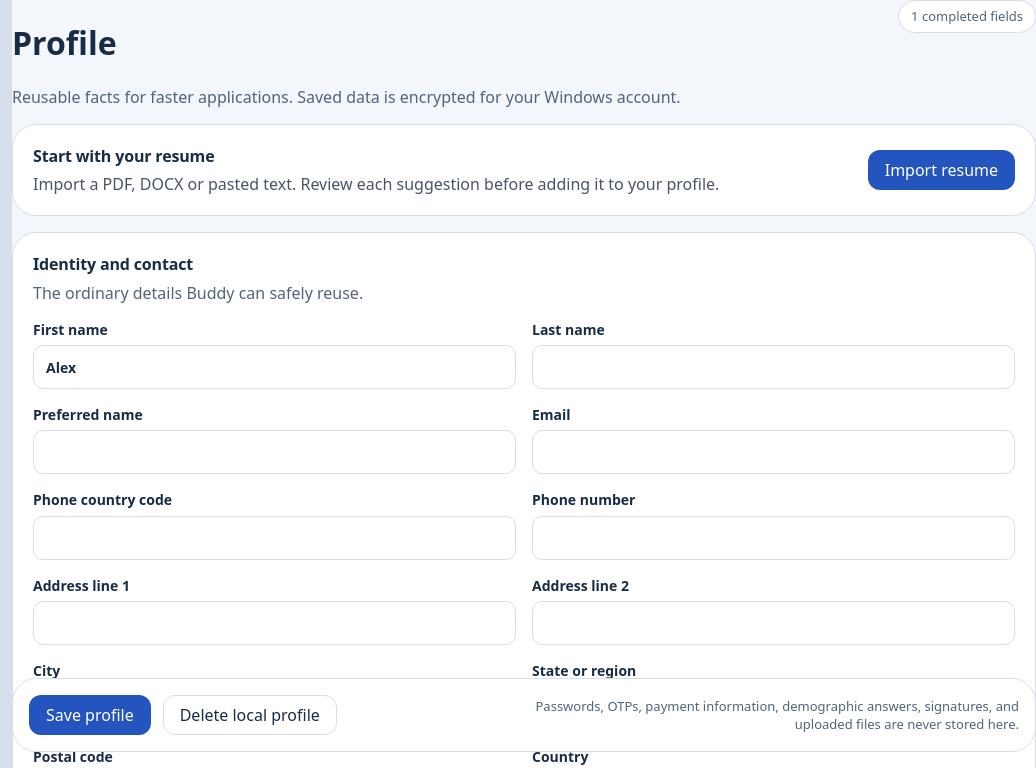
Test: ProfilePage › deletes the local profile only after confirmation
What coordinates should you click on to do the following:
click the button "Delete local profile"
I would click on:
 (250, 715)
Its box is [163,695,337,735].
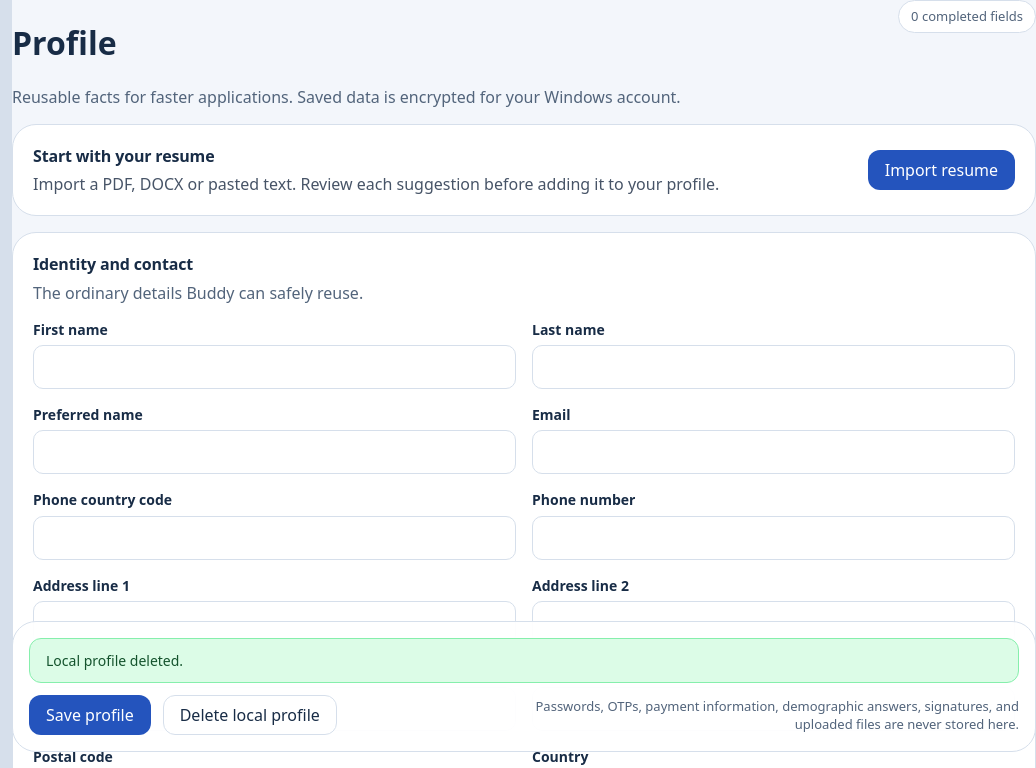
Check: the field labelled "First name" is empty, box [33,345,516,389]
Check: the text "Local profile deleted." is shown, box [29,638,1019,683]
